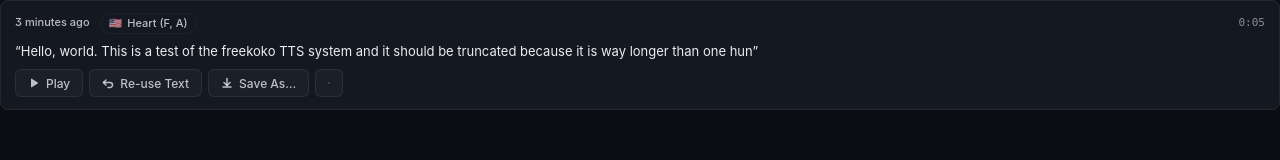
Test: HistoryItem › loads audio lazily on Play click
Click the button with test id "history-item-play": (49, 83) [15,69,83,97]
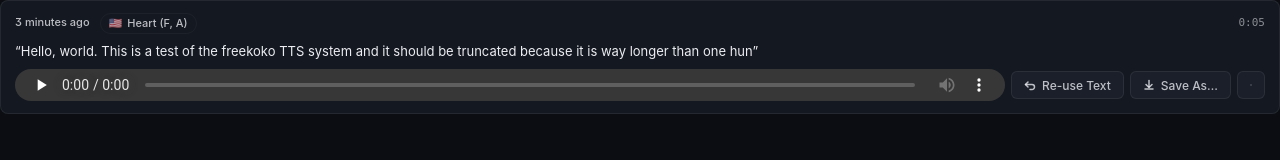
Result: the element with test id "history-item-audio" is shown at [15,69,1005,101]
